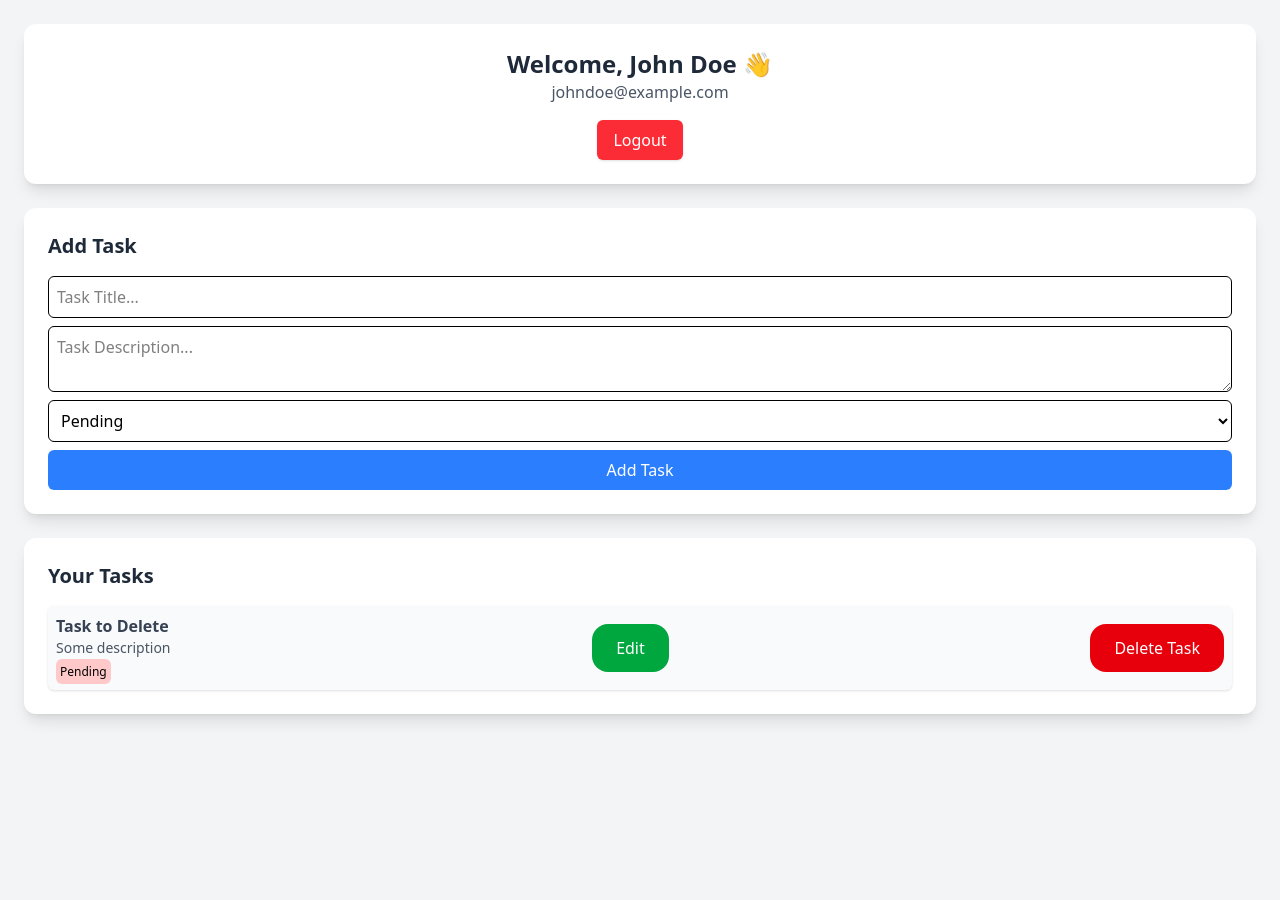
Dashboard Component › deletes a task successfully
Check: the text "Task to Delete" is shown, box [56,614,170,638]
# Click delete button
Step 1. Click the button "Delete Task" → (1157,648), box [1090,624,1224,672]
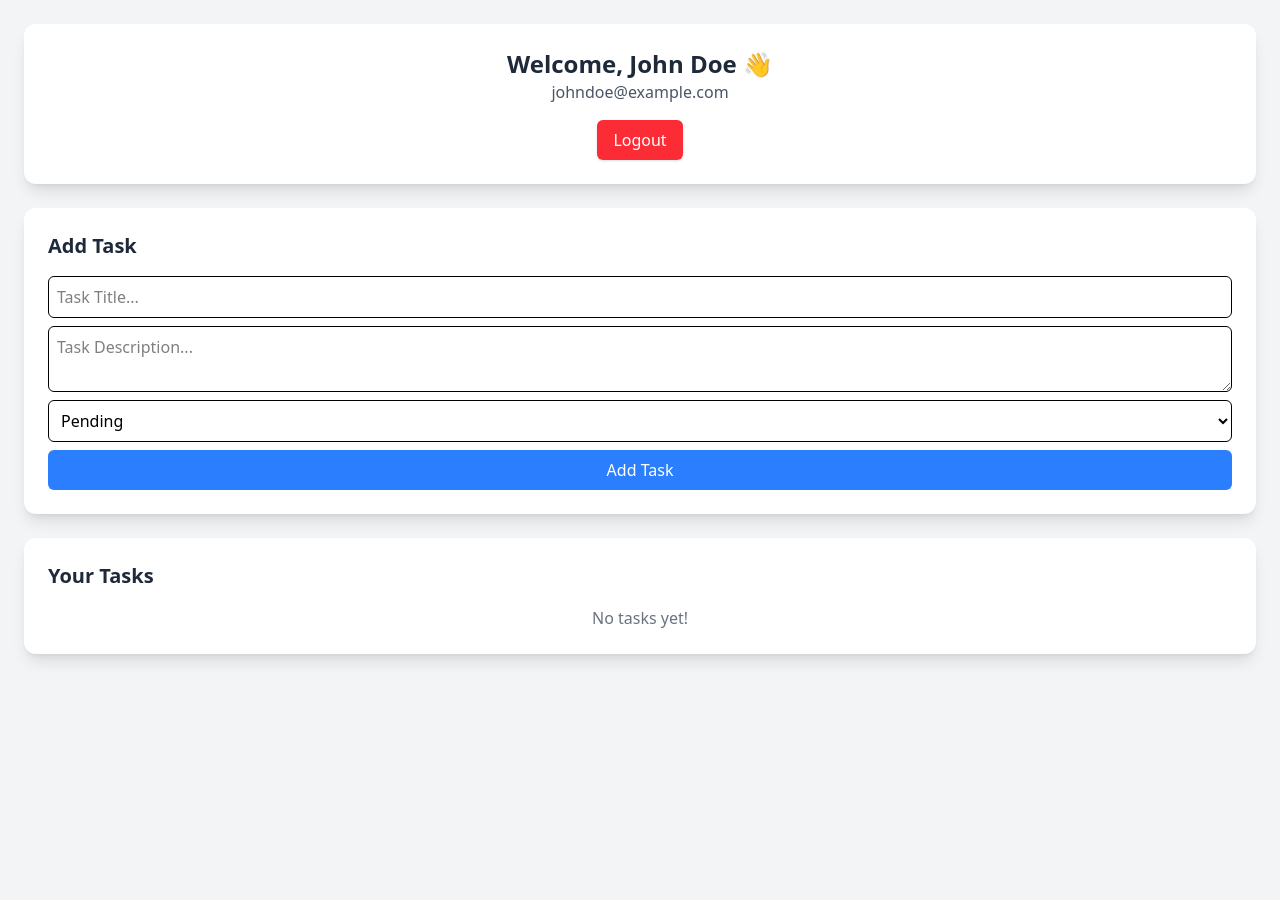
Check: the text "Task to Delete" is gone
